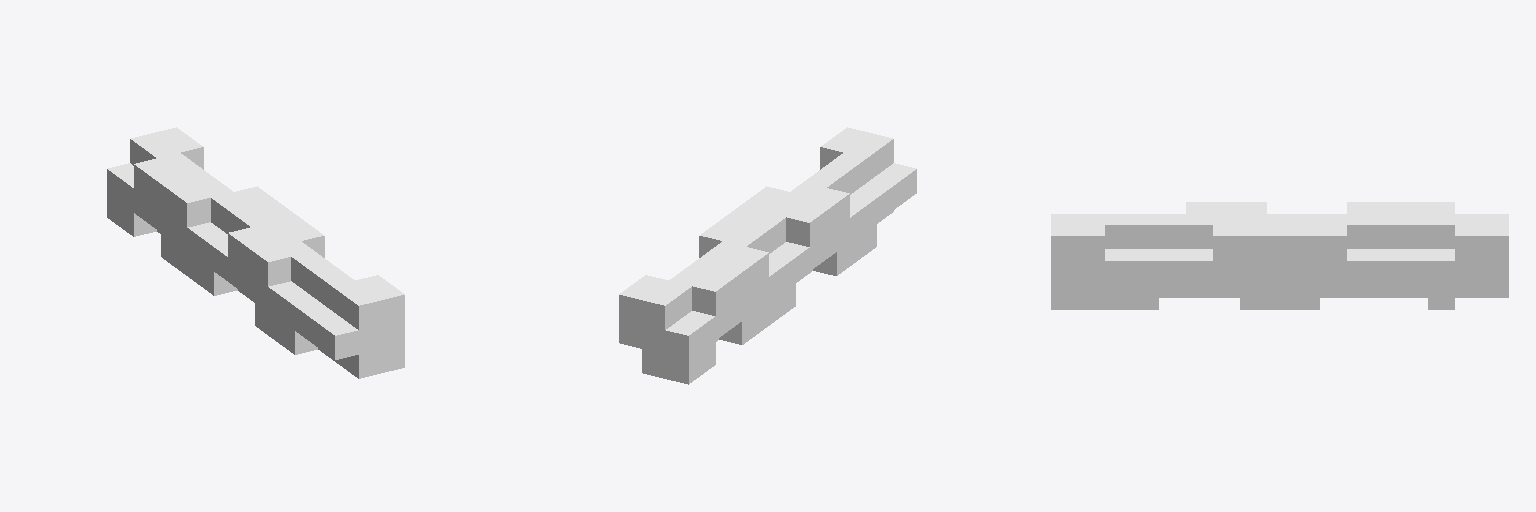
Rendered from Stock.obj.
The picture shows the model from 3 angles: view 1: azimuth 30°, elevation 25°; view 2: azimuth 150°, elevation 25°; view 3: azimuth 270°, elevation 25°; orthographic projection.
Parts seen in each view (by area): view 1: object 1; view 2: object 1; view 3: object 1.
Part boxes in pixels (x1,y1,x2,y2): object 1: (107, 127, 404, 378); object 1: (619, 127, 916, 384); object 1: (1051, 202, 1508, 309).
Bounding box in the file's own units: 0.3 × 0.3 × 1.7.